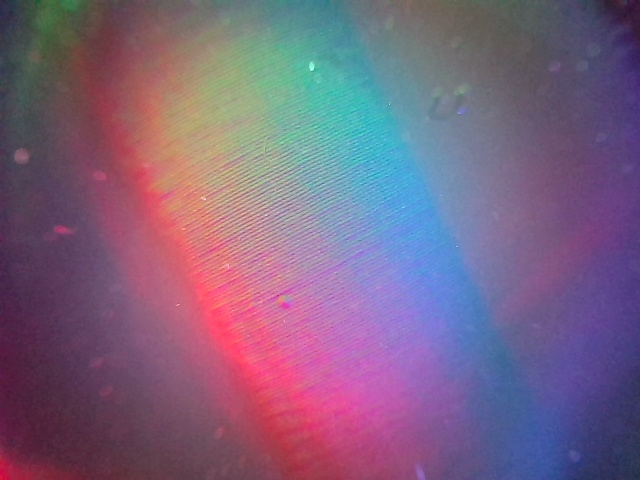contact: (75, 2, 530, 478)
